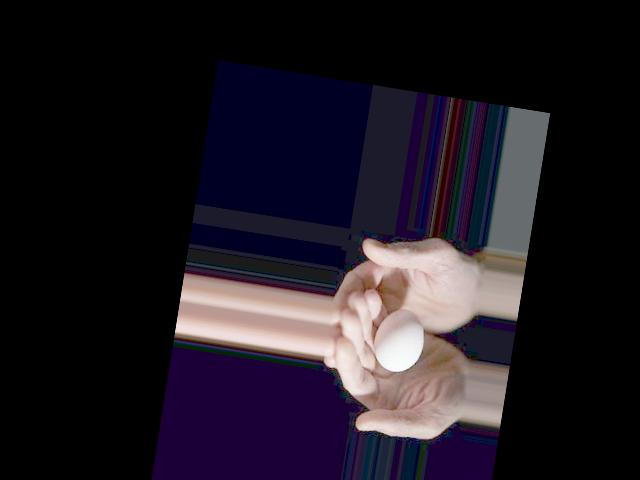egg: (370, 306, 428, 376)
